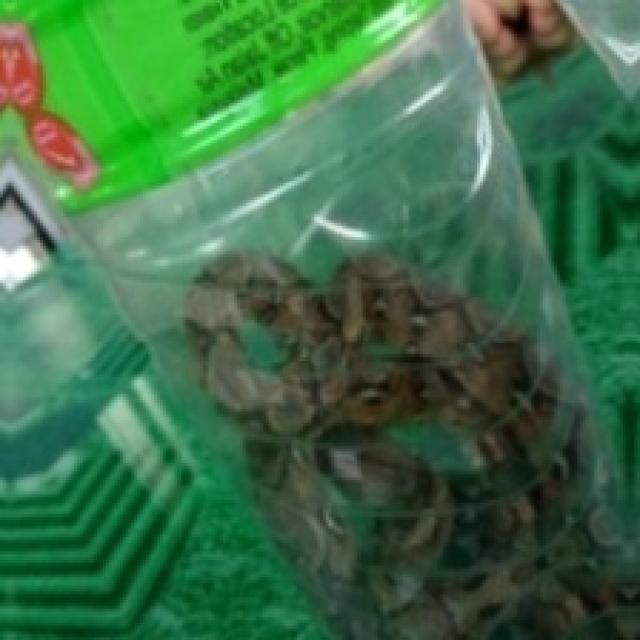reticulated python: (186, 254, 614, 637)
